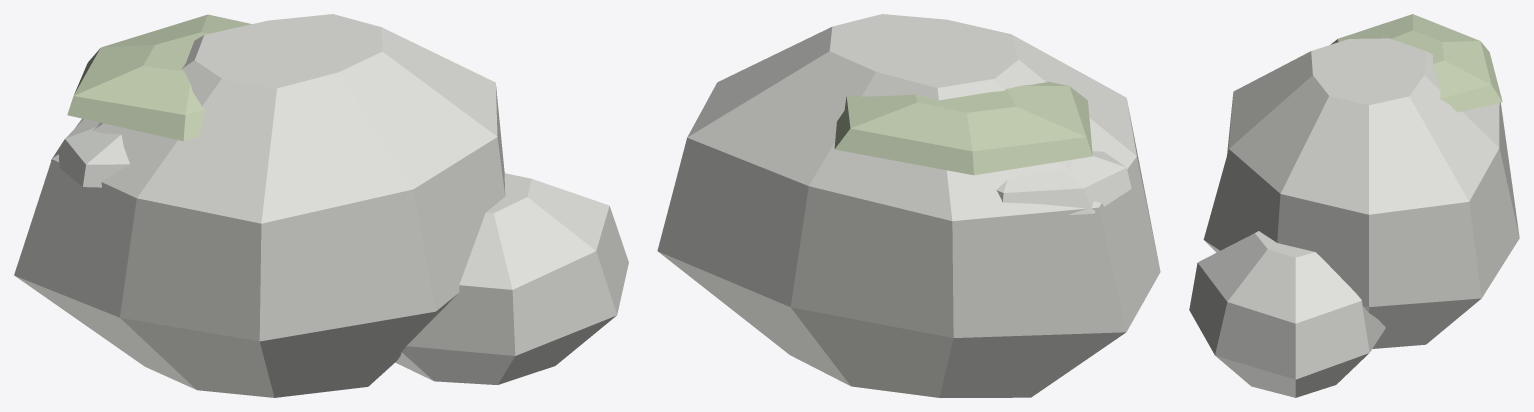
Rendered from lichen_rock.glb.
3 views of the same model, side by side, from view 1: azimuth 30°, elevation 25°; view 2: azimuth 150°, elevation 25°; view 3: azimuth 270°, elevation 25° (orthographic). The views are drawn at different scales.
Parts seen in each view (by area): view 1: lichen_rock; view 2: lichen_rock; view 3: lichen_rock.
Part boxes in pixels (box(x1,y1,x2,y2)): lichen_rock: box(14, 14, 628, 397); lichen_rock: box(657, 14, 1160, 397); lichen_rock: box(1189, 14, 1519, 397).
Size of the model in its own units: 2.06 by 1.14 by 1.41.
